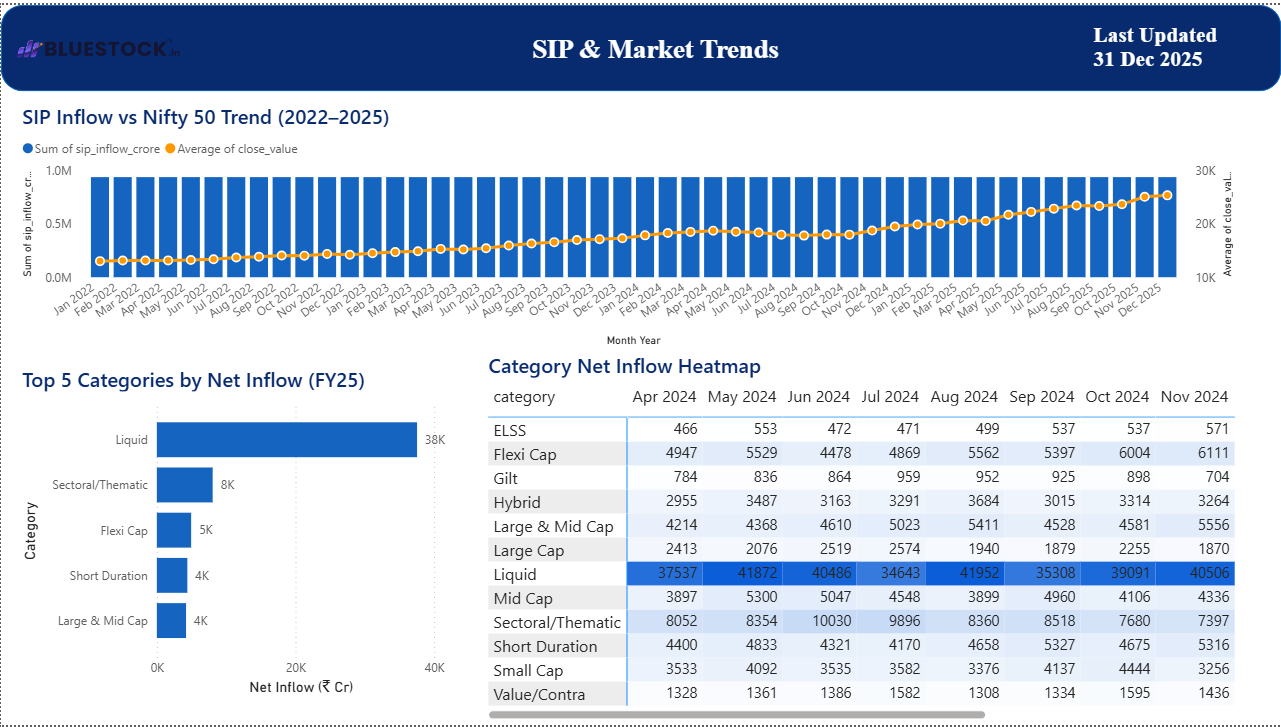

The page's visual inventory and layout, read from the dashboard file:
{"tool":"powerbi","page":{"name":"SIP & Market Trends ","canvas":[1280,720],"ordinal":3},"visuals":[{"type":"shape","box":[0,0,1280.3,86.2],"z":0},{"type":"image","box":[0,0,180.4,86.2],"z":1000},{"type":"textbox","box":[482.1,18.2,350.7,50.3],"z":2000},{"type":"textbox","box":[16.2,297.5,189.8,49.8],"z":3000},{"type":"textbox","box":[1087.8,12.1,150.8,61.9],"z":4000},{"type":"lineClusteredColumnComboChart","title":"SIP Inflow vs Nifty 50 Trend (2022–2025)","fields":{"Category":["Calendar.Month Year"],"Y":["Sum(clean_monthly_sip_inflows.sip_inflow_crore)"],"Y2":["Avg(clean_benchmark_indices.close_value)"]},"box":[16.8,97.8,1221.3,248.7],"z":5000},{"type":"pivotTable","title":"Category Net Inflow Heatmap","fields":{"Rows":["clean_category_inflows.category"],"Values":["Sum(clean_category_inflows.net_inflow_crore)"],"Columns":["clean_category_inflows.Month Year"]},"box":[482.1,346.6,756,373.1],"z":5001},{"type":"clusteredBarChart","title":"Top 5 Categories by Net Inflow (FY25)","fields":{"Category":["clean_category_inflows.category"],"Y":["Sum(clean_category_inflows.net_inflow_crore)"]},"box":[16.8,360.5,443,335.4],"z":5002}]}

Visuals, with their boxes in screenshot pixels (x1, y1, x2, y2), scaled from the page's 1280x720 canvas onto the 1281x727 screenshot:
shape: locate(0, 0, 1280, 87)
image: locate(0, 0, 181, 87)
textbox: locate(482, 18, 833, 69)
textbox: locate(16, 300, 206, 351)
textbox: locate(1089, 12, 1240, 75)
"SIP Inflow vs Nifty 50 Trend (2022–2025)" lineClusteredColumnComboChart: locate(17, 99, 1239, 350)
"Category Net Inflow Heatmap" pivotTable: locate(482, 350, 1239, 726)
"Top 5 Categories by Net Inflow (FY25)" clusteredBarChart: locate(17, 364, 460, 703)
